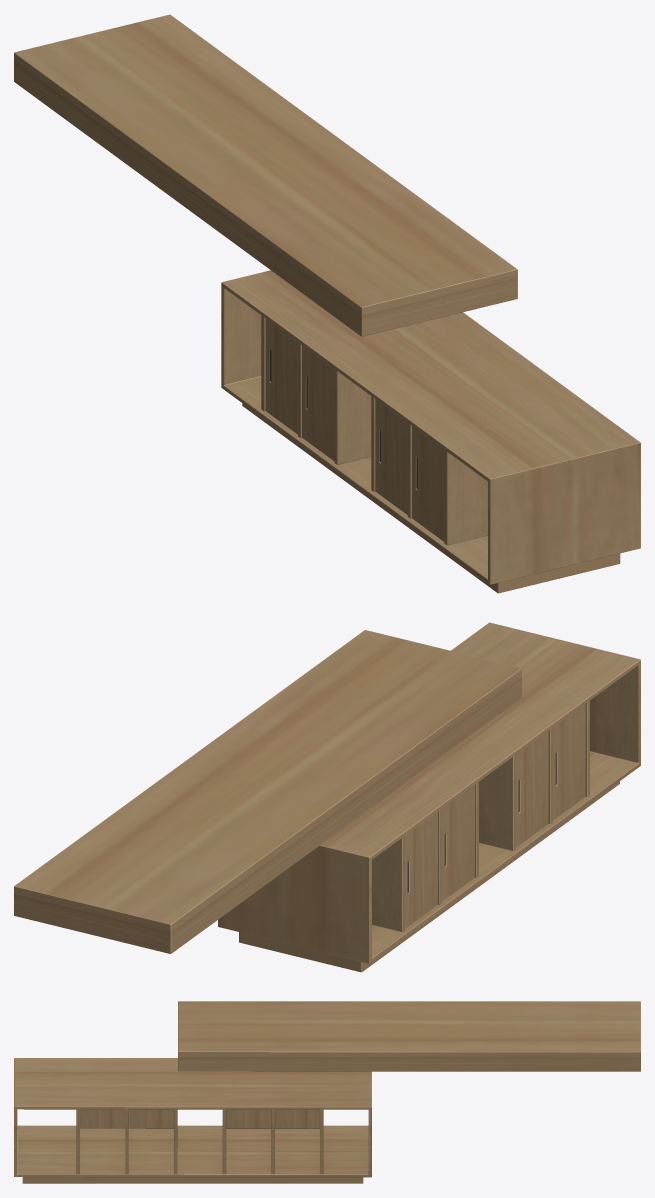
3 renders of one model, top to bottom at view 1: azimuth 30°, elevation 25°; view 2: azimuth 150°, elevation 25°; view 3: azimuth 270°, elevation 25°, orthographic. The views are drawn at different scales.
Parts seen in each view (by area): view 1: solid_001_wire; view 2: solid_001_wire; view 3: solid_001_wire.
Part boxes in pixels (x1=…): solid_001_wire: x1=14, y1=14, x2=640, y2=593; solid_001_wire: x1=14, y1=622, x2=640, y2=972; solid_001_wire: x1=14, y1=1001, x2=640, y2=1183.
Size of the model in its own units: 0.5893 by 0.7372 by 3.07.
1 material, 1 textured.
